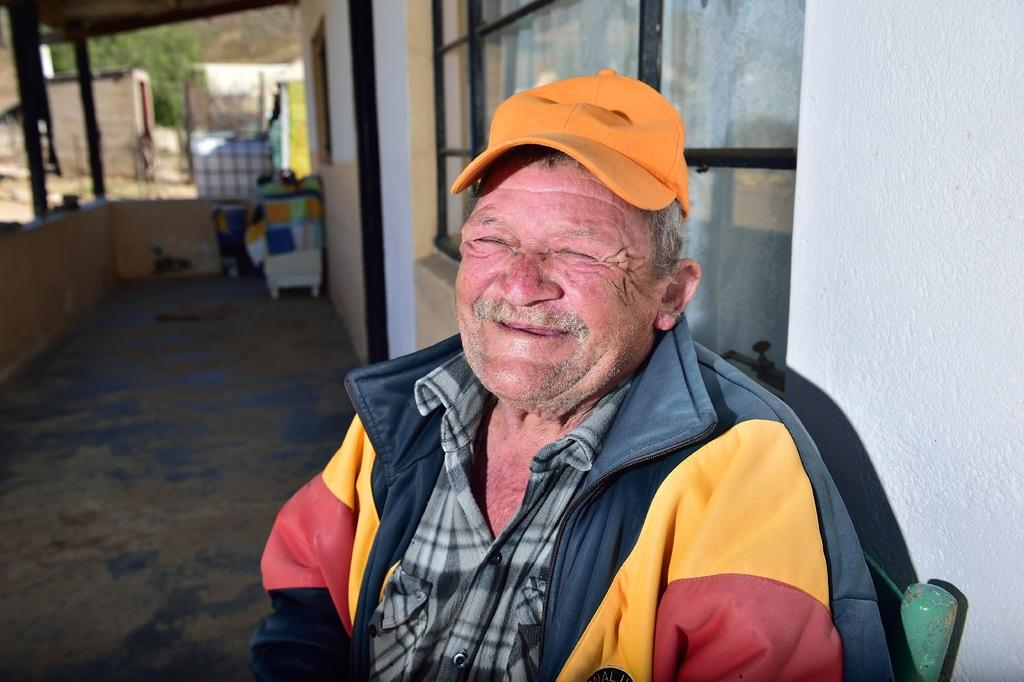Hat: (450, 64, 686, 228)
